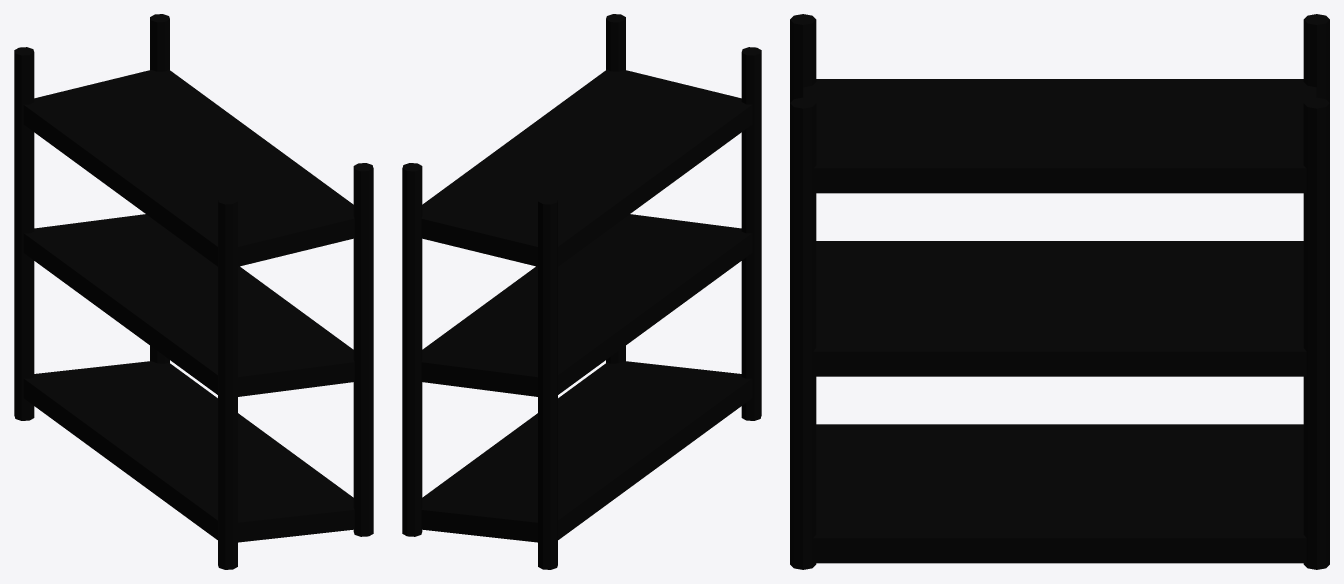
Rendered from MetalShelf.fbx.
The picture shows the model from 3 angles, left to right: view 1: azimuth 30°, elevation 25°; view 2: azimuth 150°, elevation 25°; view 3: azimuth 270°, elevation 25°; orthographic projection. The views are drawn at different scales.
Visible parts, largest first — view 1: MetalShelf; view 2: MetalShelf; view 3: MetalShelf.
Part boxes in pixels (<box>): MetalShelf: <box>14,14,373,569</box>; MetalShelf: <box>402,14,761,569</box>; MetalShelf: <box>790,14,1329,569</box>.
Size of the model in its own units: 153 by 347 by 368.
